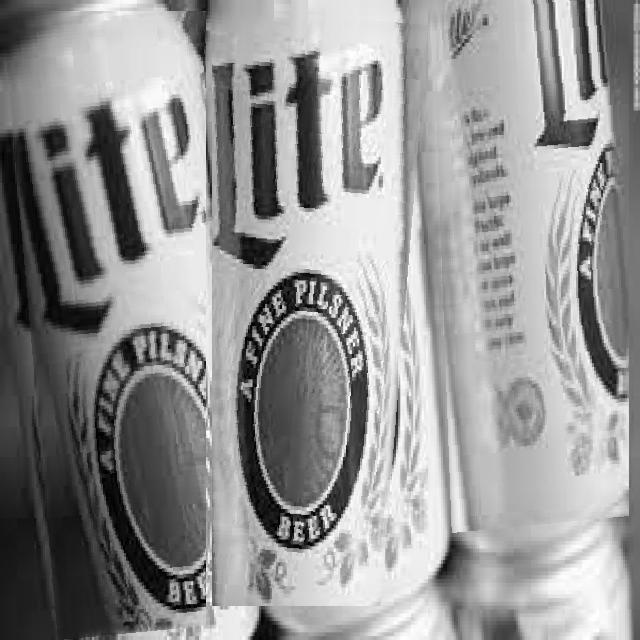Cans: (212, 6, 428, 606), (2, 11, 206, 640), (432, 0, 629, 533)
